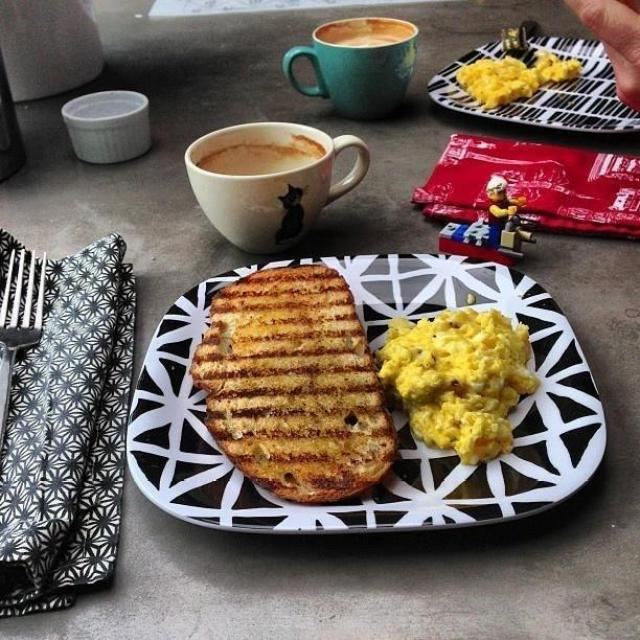cup-handle: (185, 120, 372, 254), (282, 17, 418, 120)
